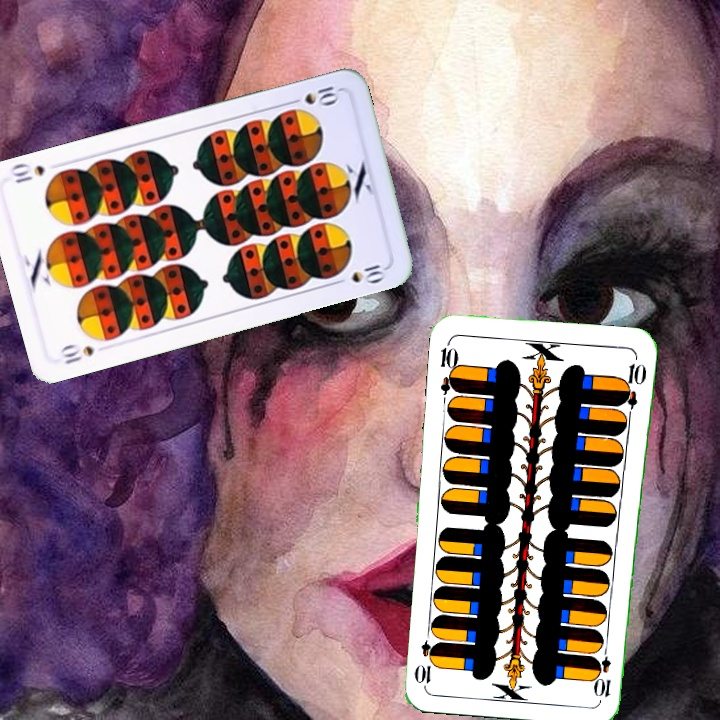E10: (436, 337, 462, 397), (595, 641, 614, 700)
S10: (284, 82, 342, 108), (57, 340, 98, 367)
